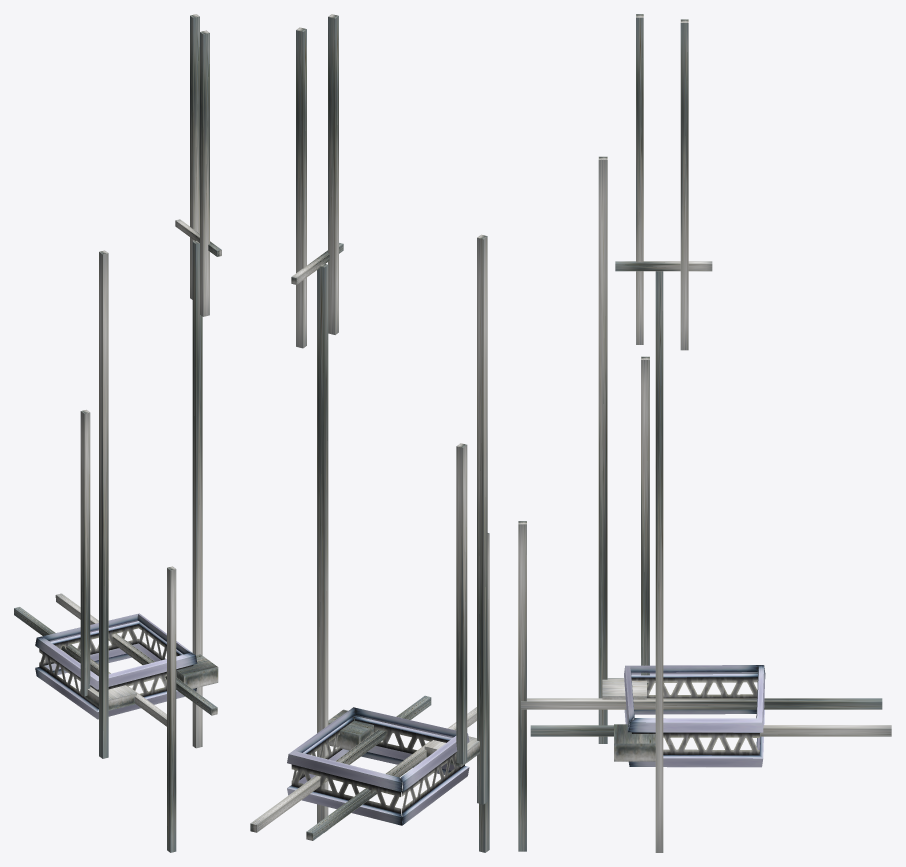
File: antenna_hang.DAE
The picture shows the model from 3 angles, left to right: view 1: azimuth 30°, elevation 25°; view 2: azimuth 150°, elevation 25°; view 3: azimuth 270°, elevation 25°; orthographic projection. The views are drawn at different scales.
Parts seen in each view (by area): view 1: Object03-Pivot; view 2: Object03-Pivot; view 3: Object03-Pivot.
Boxes of the visible parts, bbox=[...] form: Object03-Pivot: bbox=[14, 14, 221, 852]; Object03-Pivot: bbox=[250, 14, 489, 852]; Object03-Pivot: bbox=[518, 14, 891, 852].
Size of the model in its own units: 5.18 by 28.43 by 10.92.
